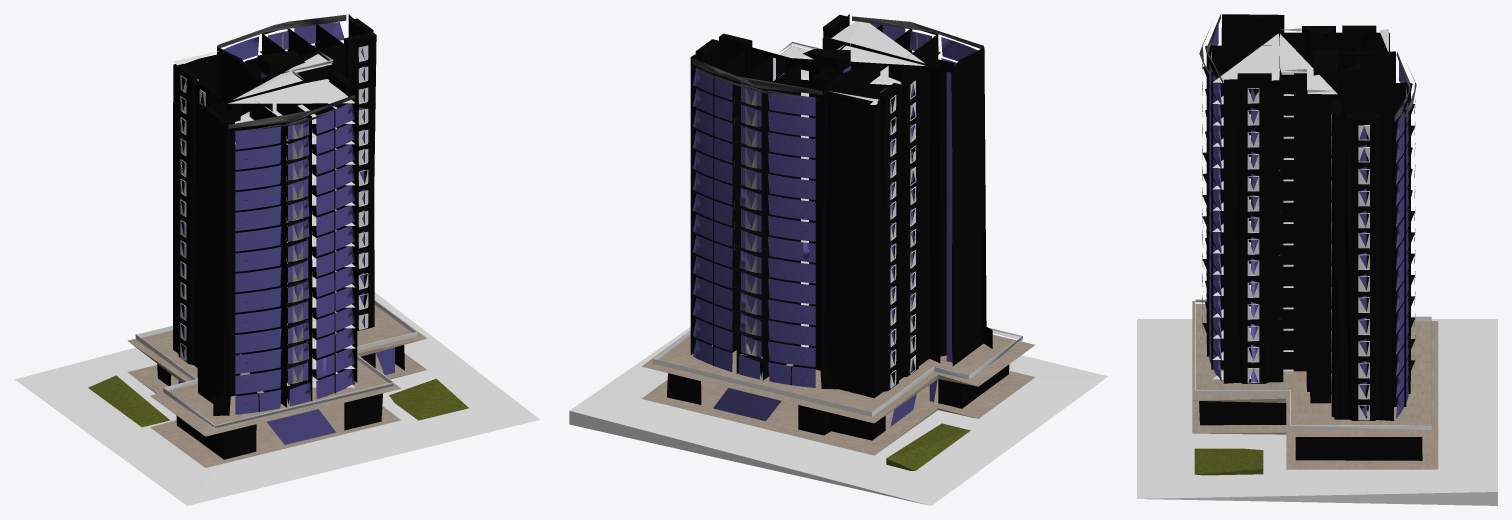
File: blue_glass_tower_lod1.glb
3 views of the same model, side by side, from view 1: azimuth 30°, elevation 25°; view 2: azimuth 150°, elevation 25°; view 3: azimuth 270°, elevation 25° (orthographic). The views are drawn at different scales.
Visible parts, largest first — view 1: blue_glass_tower; view 2: blue_glass_tower; view 3: blue_glass_tower.
Boxes of the visible parts, box(x1,y1,x2,y2) form: blue_glass_tower: box(14, 14, 539, 505); blue_glass_tower: box(569, 14, 1107, 505); blue_glass_tower: box(1137, 14, 1497, 505).
Bounding box in the file's own units: 59.91 × 56.11 × 50.76.
11 materials, 5 textured.
